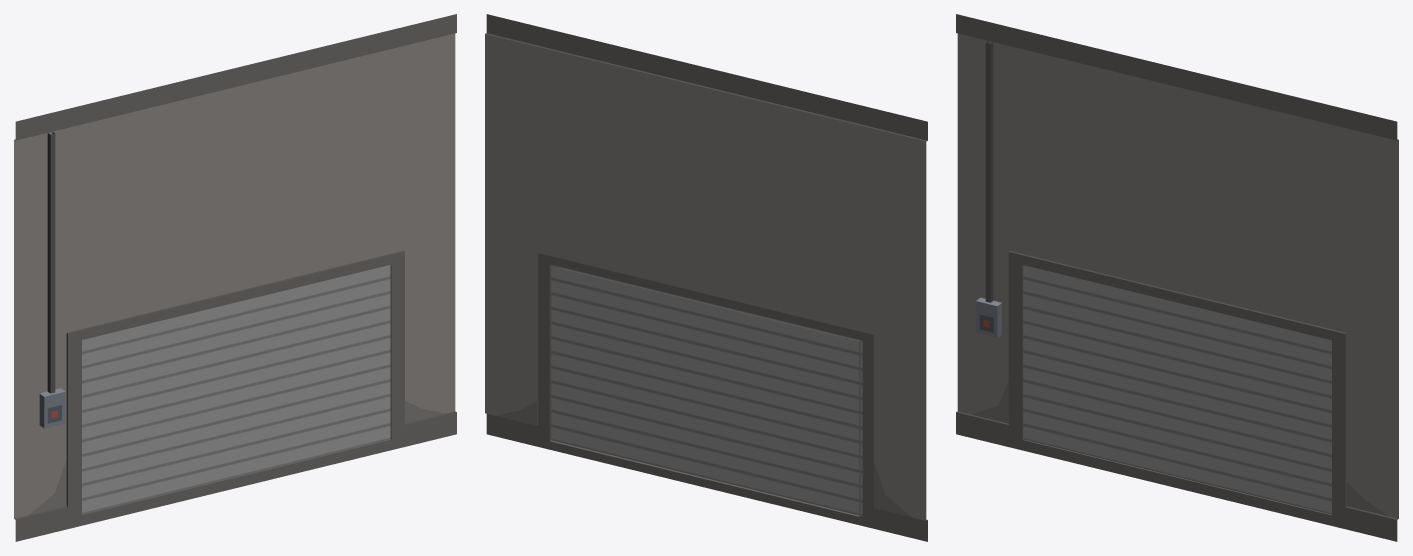
File: AI_Env_Wall_Factory_GarageDoor.fbx
3 views of the same model, side by side, from view 1: azimuth 30°, elevation 25°; view 2: azimuth 150°, elevation 25°; view 3: azimuth 330°, elevation 25° (orthographic).
Visible parts, largest first — view 1: AI_Env_Wall_Factory_GarageDoor; view 2: AI_Env_Wall_Factory_GarageDoor; view 3: AI_Env_Wall_Factory_GarageDoor.
Part boxes in pixels (x1,y1,x2,y2): AI_Env_Wall_Factory_GarageDoor: (14, 14, 456, 541); AI_Env_Wall_Factory_GarageDoor: (485, 14, 927, 541); AI_Env_Wall_Factory_GarageDoor: (956, 14, 1398, 541).
Bounding box in the file's own units: 10 × 9.1 × 0.2623.
